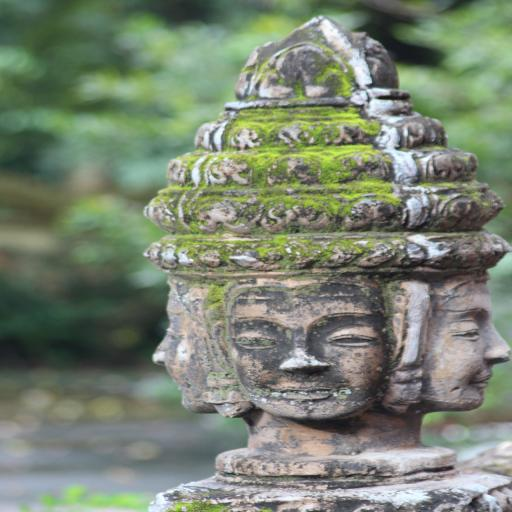than: (157, 42, 512, 512)
